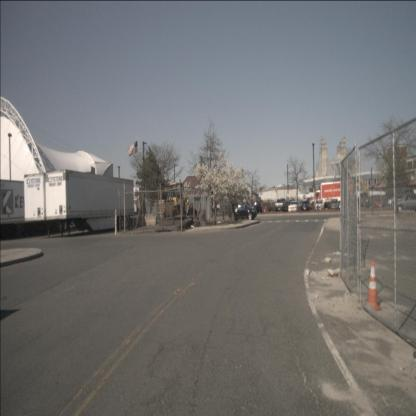movable_object-trafficcone: (366, 260, 382, 312)
vehicle-car: (228, 202, 257, 221), (396, 192, 416, 214), (385, 194, 404, 206), (359, 193, 370, 208), (288, 201, 301, 213), (252, 201, 262, 214), (301, 200, 311, 212), (330, 199, 340, 209), (314, 200, 324, 210)
vehicle-truck: (133, 186, 147, 227), (308, 189, 321, 210), (274, 197, 288, 212)
